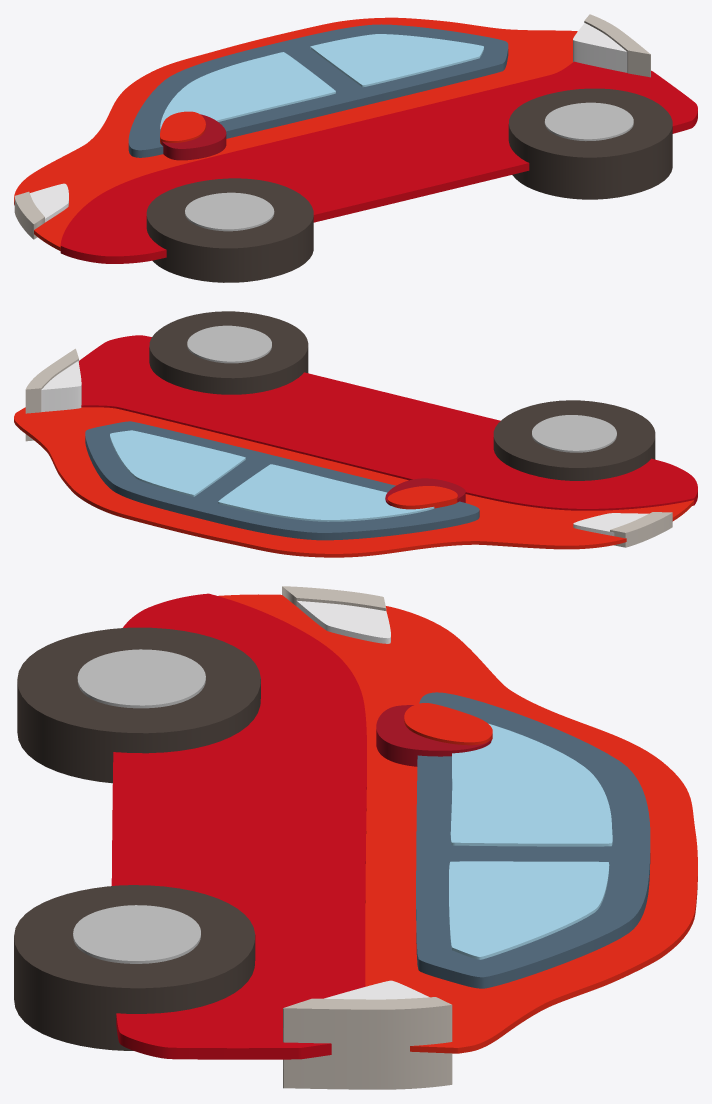
File: emoji_u1f697.glb
3 renders of one model, top to bottom at view 1: azimuth 30°, elevation 25°; view 2: azimuth 150°, elevation 25°; view 3: azimuth 270°, elevation 25°, orthographic. The views are drawn at different scales.
Parts seen in each view (by area): view 1: emoji_u1f697; view 2: emoji_u1f697; view 3: emoji_u1f697.
Part boxes in pixels (box(x1,y1,x2,y2)): emoji_u1f697: box(14, 14, 697, 282); emoji_u1f697: box(14, 311, 697, 557); emoji_u1f697: box(14, 586, 697, 1089).
Size of the model in its own units: 0.0343 by 0.0028 by 0.0217.
